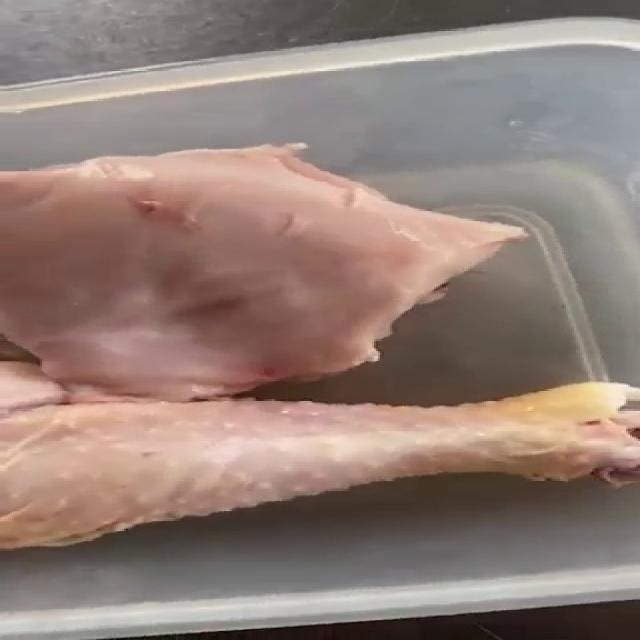chicken: (0, 139, 530, 402), (0, 361, 638, 550)
